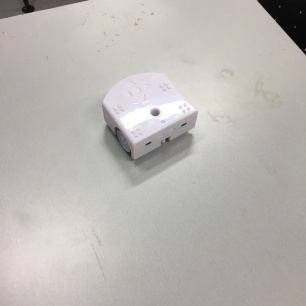thymio: (92, 66, 205, 163)
